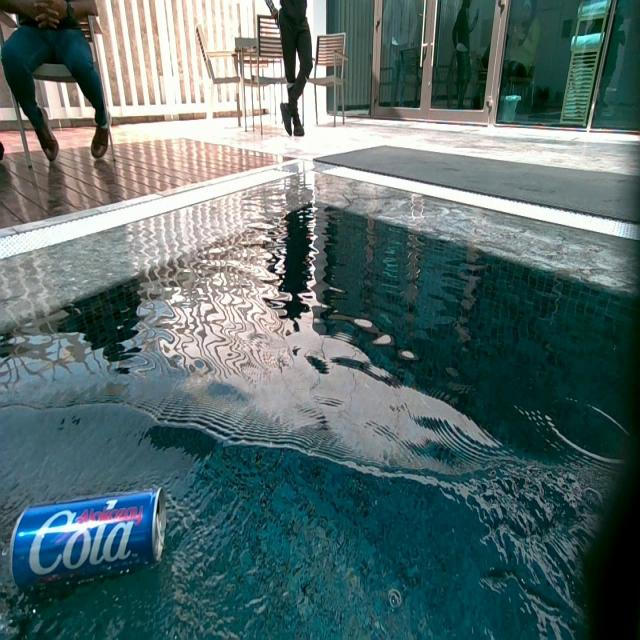Cans: (9, 487, 169, 591)
